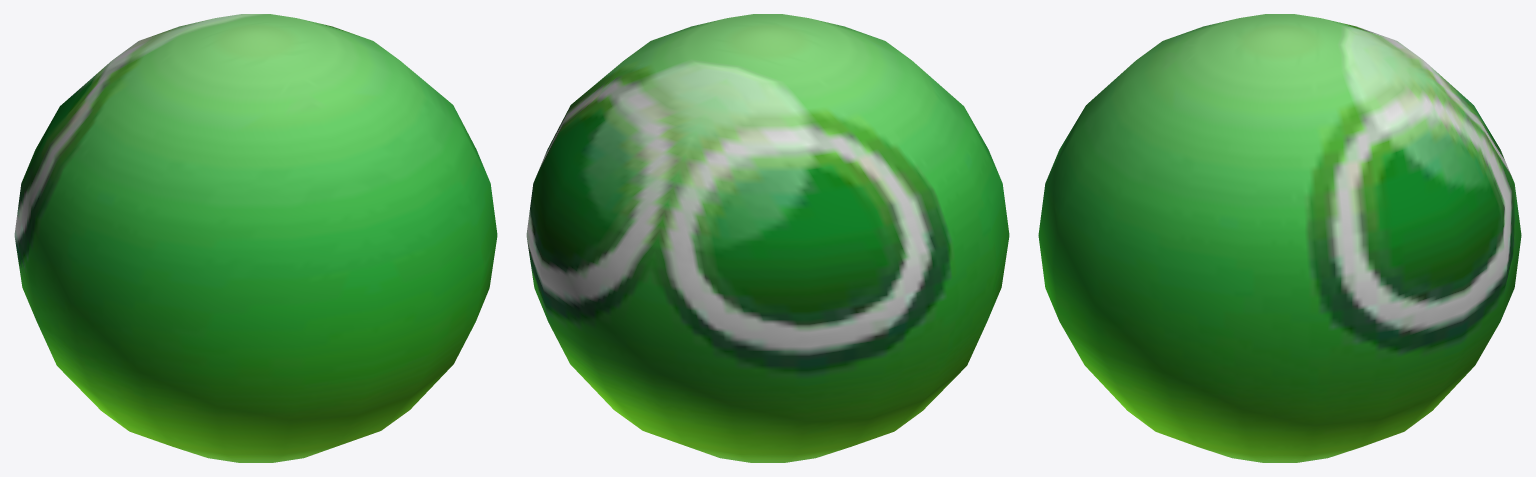
File: greenpuyo.glb
The picture shows the model from 3 angles, left to right: view 1: azimuth 30°, elevation 25°; view 2: azimuth 150°, elevation 25°; view 3: azimuth 270°, elevation 25°; orthographic projection.
Parts seen in each view (by area): view 1: _1_0; view 2: _1_0; view 3: _1_0.
Boxes of the visible parts, bbox=[...] form: _1_0: bbox=[14, 14, 497, 462]; _1_0: bbox=[526, 14, 1009, 462]; _1_0: bbox=[1038, 14, 1521, 462].
Bounding box in the file's own units: 1.33 × 1.23 × 1.35.
1 material, 1 textured.
